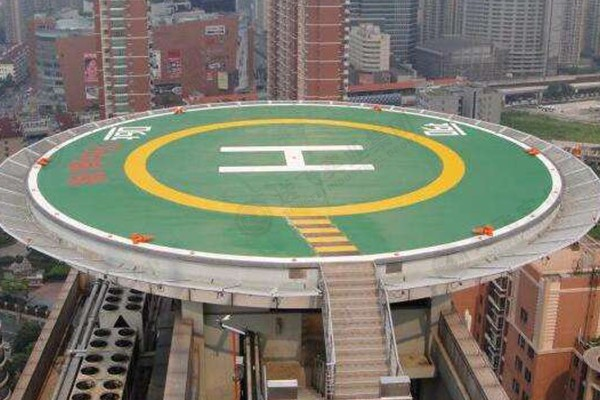H: (219, 145, 376, 173)
